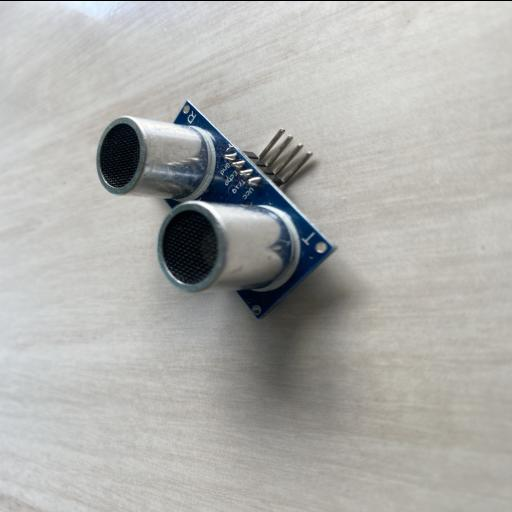Ultrasonic Sensor: (94, 98, 338, 320)
